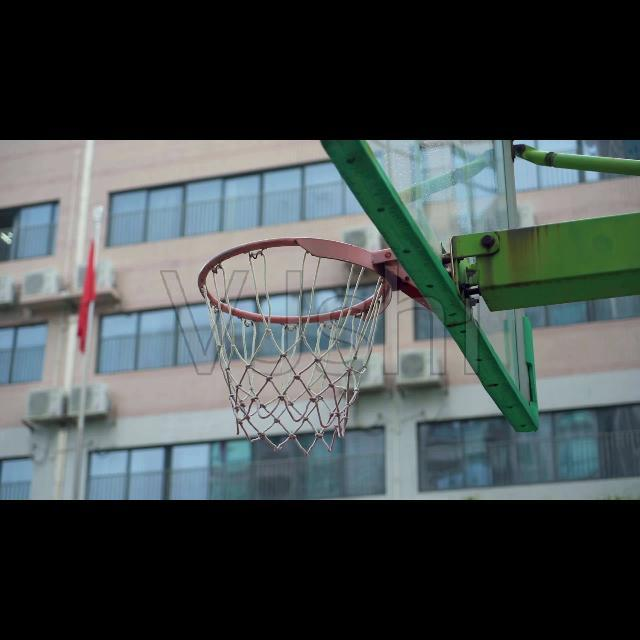rim: (198, 236, 392, 456)
